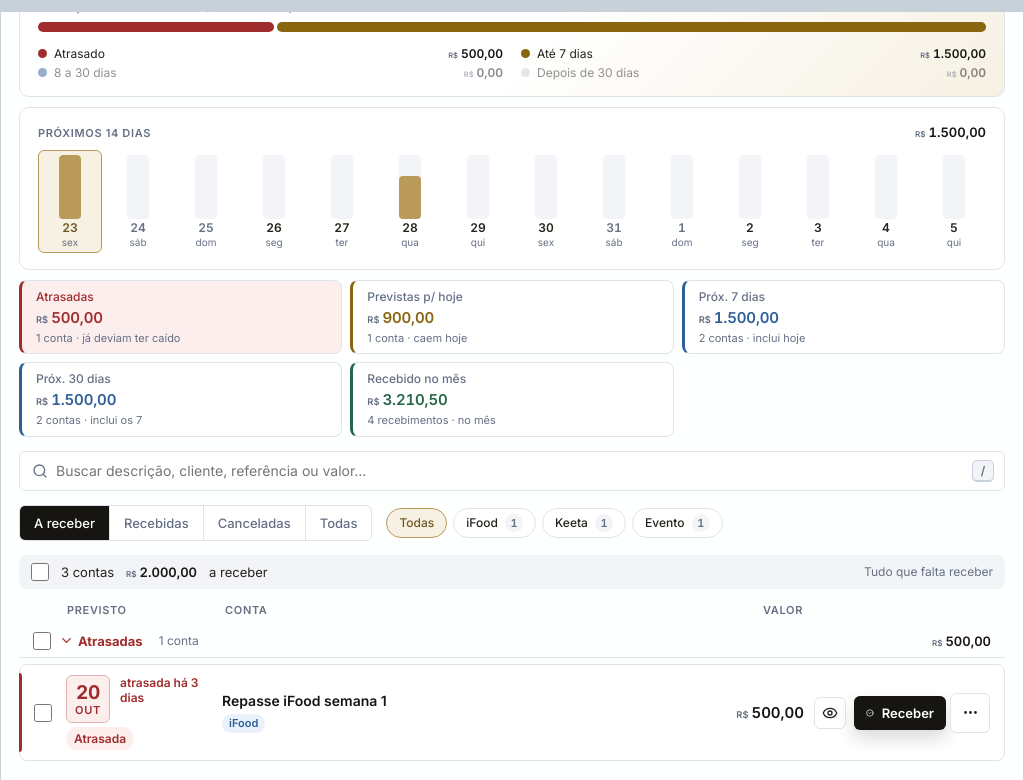
Scenario: Contas a Receber — panorama e lista › busca por cliente e por valor; a tecla / leva o foco à busca
(page scrolled)
Check: the text "Repasse iFood semana 1" is shown, box [222, 692, 387, 709]
Press /
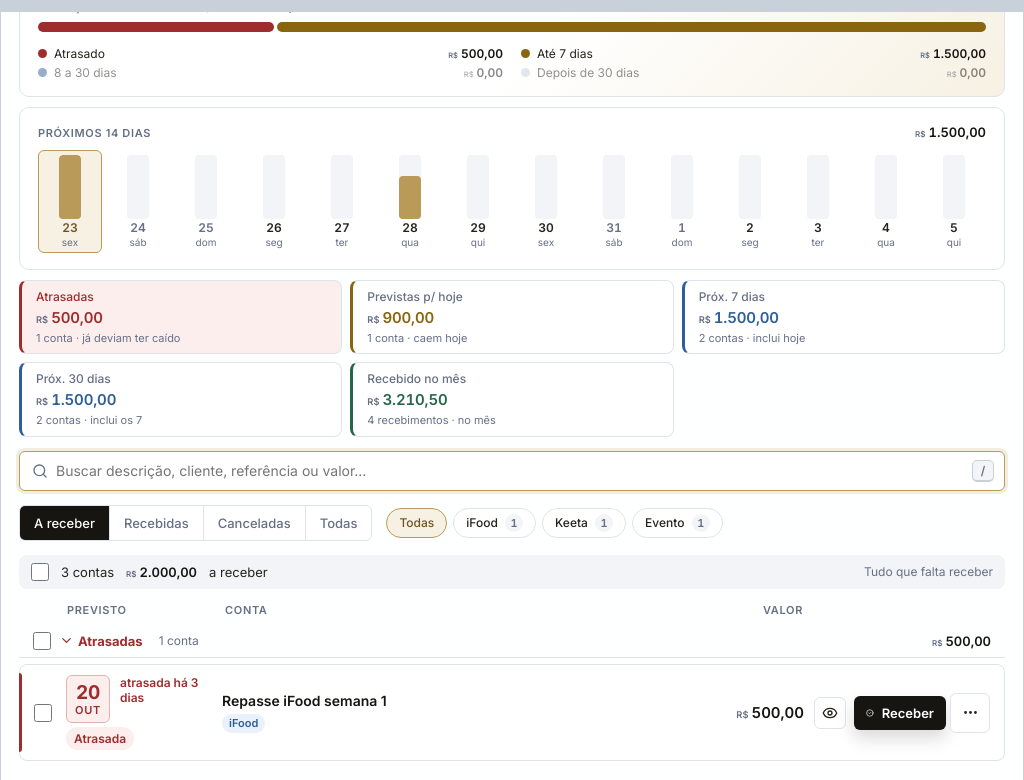
In the search field named "Buscar contas a receber": (510, 471) [56, 452, 964, 490], type "colegio"
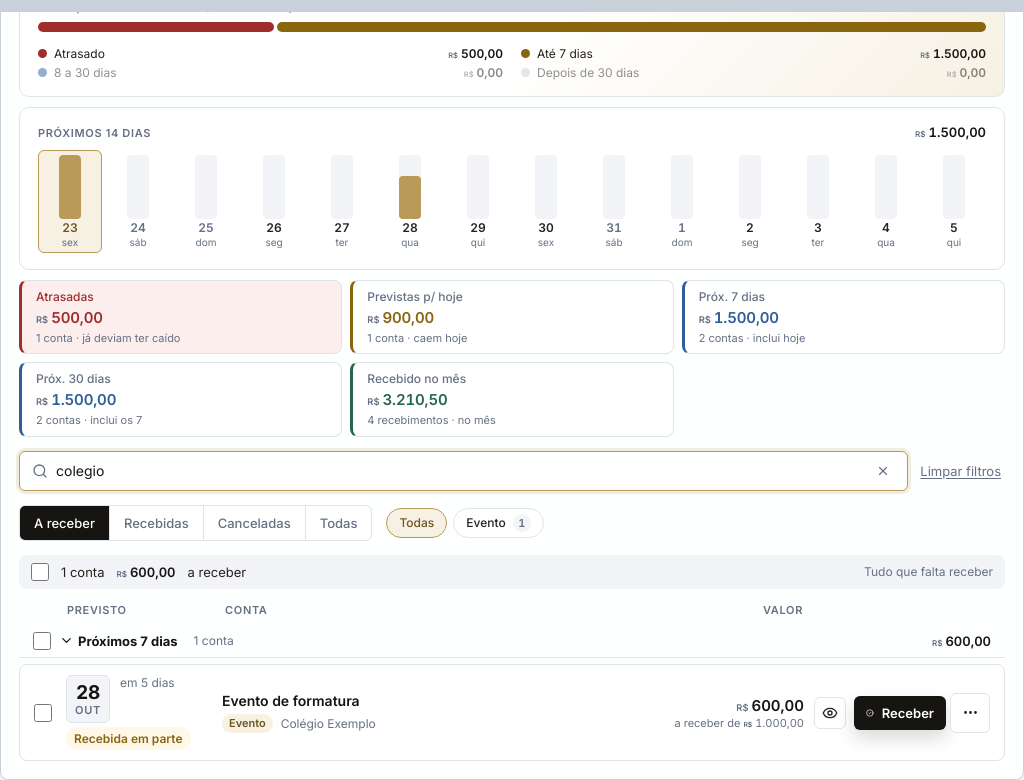
Check: the text "Evento de formatura" is shown, box [222, 692, 360, 709]
Replace the text in the search field named "Buscar contas a receber" with "500": (459, 471) [56, 452, 861, 490]
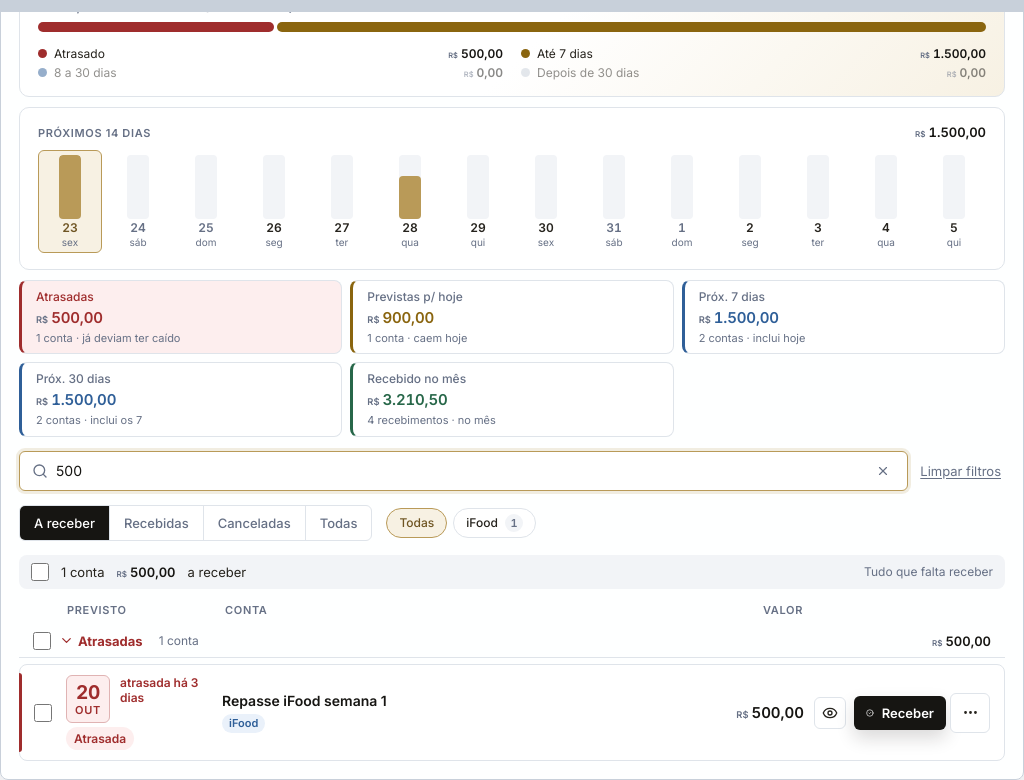
Check: the text "Repasse iFood semana 1" is shown, box [222, 692, 387, 709]
Check: the text "Evento de formatura" is gone
